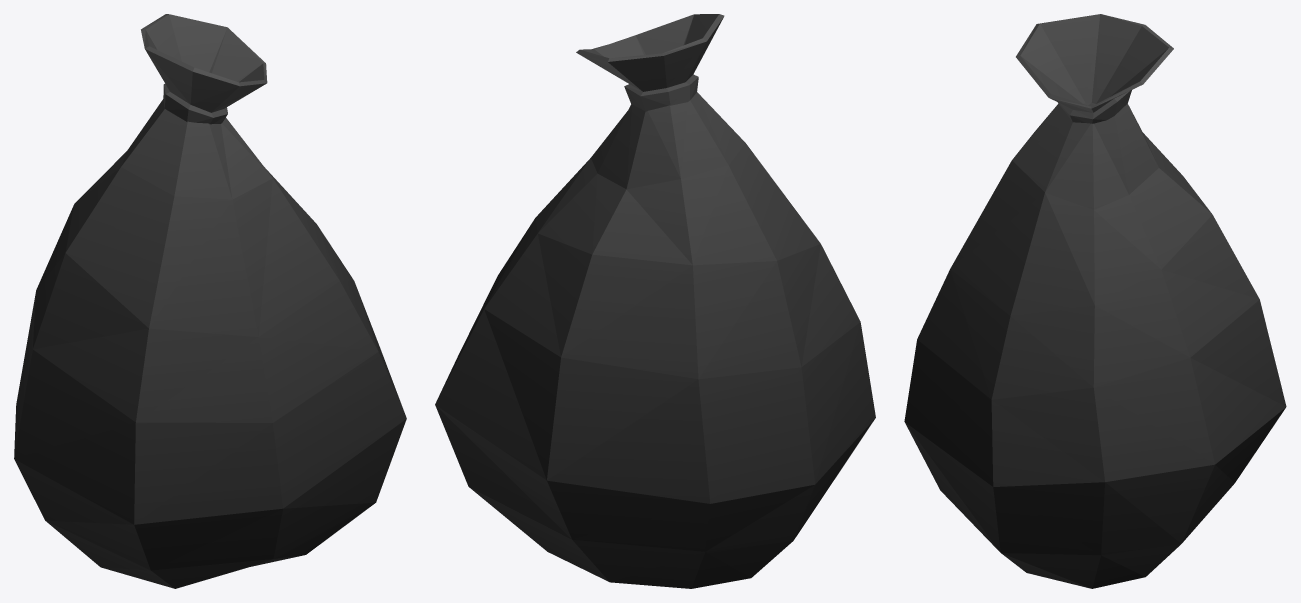
The model's file is Prop_Trash_Bag_02.obj.
3 views of the same model, side by side, from view 1: azimuth 30°, elevation 25°; view 2: azimuth 150°, elevation 25°; view 3: azimuth 270°, elevation 25° (orthographic). The views are drawn at different scales.
Visible parts, largest first — view 1: Prop_Trash_Bag_02; view 2: Prop_Trash_Bag_02; view 3: Prop_Trash_Bag_02.
Boxes of the visible parts, bbox=[...] form: Prop_Trash_Bag_02: bbox=[14, 14, 406, 588]; Prop_Trash_Bag_02: bbox=[435, 14, 875, 588]; Prop_Trash_Bag_02: bbox=[904, 14, 1286, 588].
Size of the model in its own units: 0.516 by 0.7077 by 0.4882.
1 material, 1 textured.
